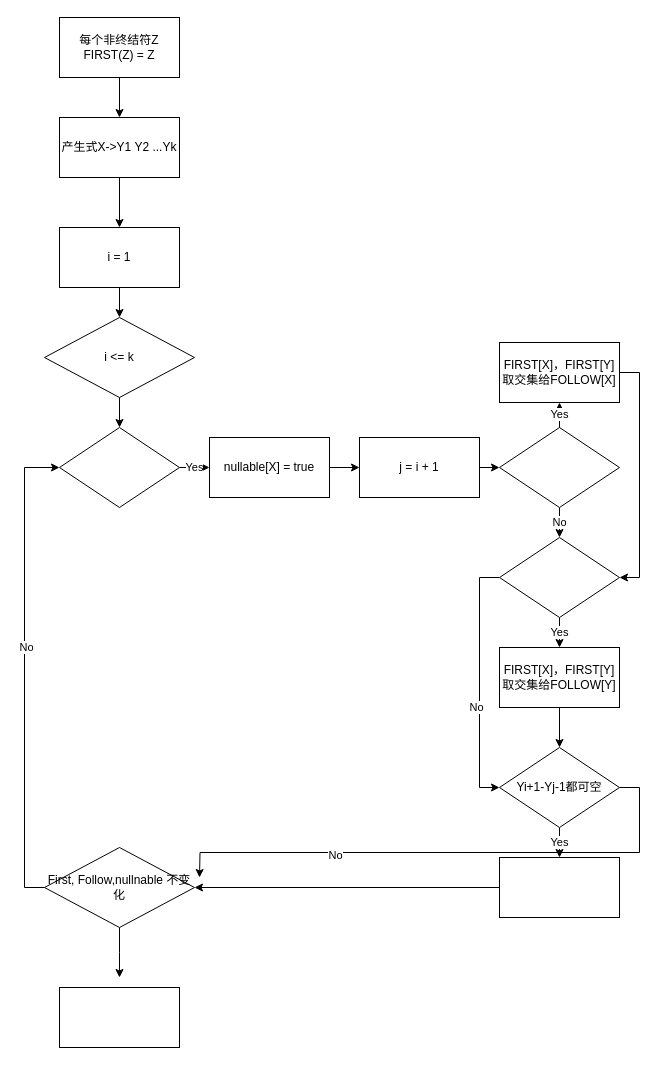
Image size: 665x1065. Some labels were removed from this diagram. The shapes that lost their labels are listed below. From the top down, each one's centre as x and y in pixels, then its label:
point (119, 467): 所有Yi可空
point (559, 467): Y1-Yi-1可空
point (559, 577): Yi+1-Yk可空
point (559, 887): FOLLOW[Yi] = FOLLOW[Yi] 交 FIRST[Yj]
point (119, 1017): 结束
